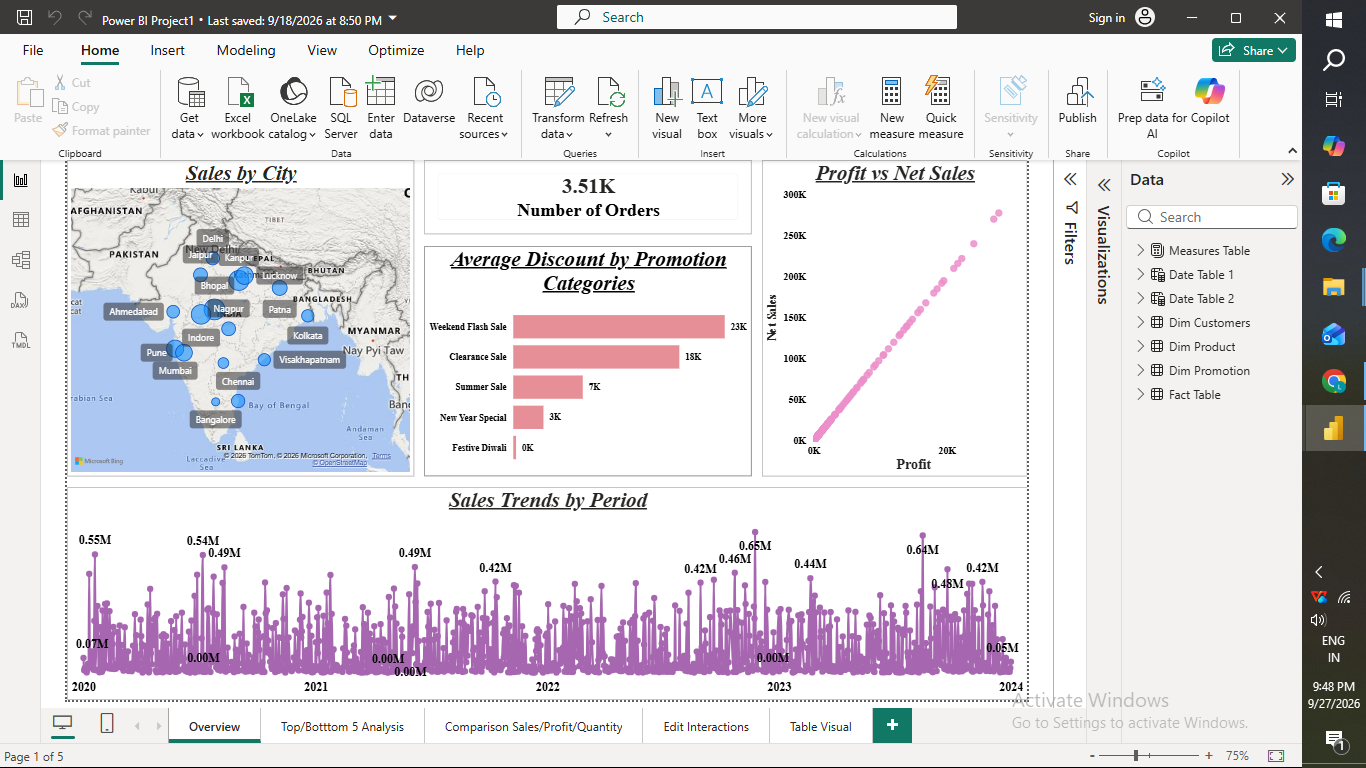

What the dashboard file says about the page in this screenshot:
{"tool":"powerbi","page":{"name":"Overview","canvas":[1280,720],"ordinal":0},"visuals":[{"type":"lineChart","title":"Sales Trends by Period","fields":{"Category":["Fact Table.Date (dd/mm/yyyy).Variation.Date Hierarchy.Year"],"Y":["Sum(Fact Table.Net  Sales  )"]},"box":[0,435.8,1280.6,283.6],"z":0},{"type":"scatterChart","title":"Profit vs Net  Sales  ","fields":{"X":["Fact Table.Profit"],"Y":["Fact Table.Net  Sales  "]},"box":[926.9,0,353.7,422.4],"z":1000},{"type":"barChart","title":"Average Discount by Promotion Categories","fields":{"Category":["Dim Promotion.Promotion Name"],"Y":["Avg(Fact Table.Discount)"]},"box":[476.1,114.9,437.3,307.5],"z":2000},{"type":"map","title":"Sales by City","fields":{"Category":["Dim Customers.City"],"Size":["Sum(Fact Table.Net  Sales  )"]},"box":[0,0,462.7,422.4],"z":3000},{"type":"cardVisual","fields":{"Data":["Count(Fact Table.Order ID)"]},"box":[476.1,0,437.3,98.5],"z":4000}]}

Visuals, with their boxes on the page's 1280x720 design canvas (x1, y1, x2, y2). These are canvas units, not pixel positions in the 1366x768 screenshot, which may show the page scaled, cropped or inside an application window:
"Sales Trends by Period" lineChart: crop(0, 436, 1281, 719)
"Profit vs Net  Sales  " scatterChart: crop(927, 0, 1281, 422)
"Average Discount by Promotion Categories" barChart: crop(476, 115, 913, 422)
"Sales by City" map: crop(0, 0, 463, 422)
cardVisual - Count(Fact Table.Order ID): crop(476, 0, 913, 98)
